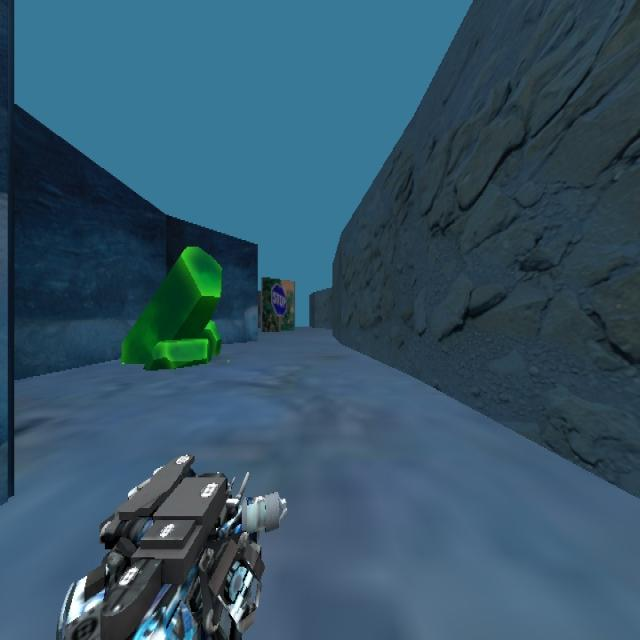Diamon: (119, 244, 223, 371)
Stop_Sign: (269, 281, 287, 316)
